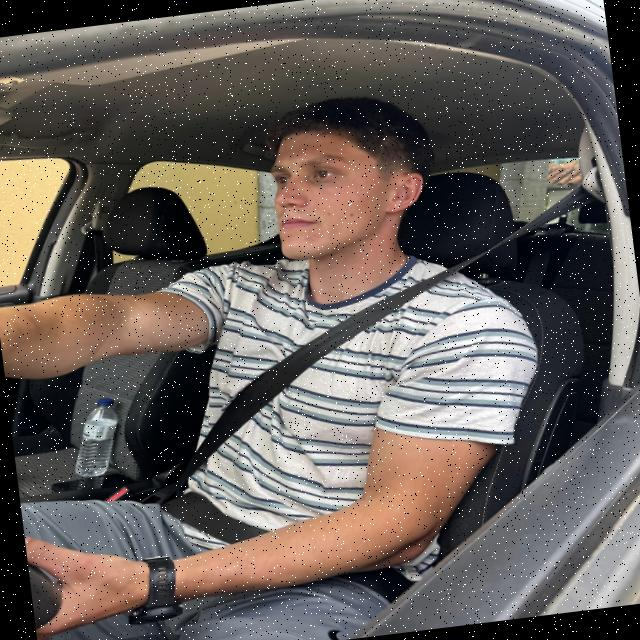Seatbelt: (121, 154, 629, 509)
